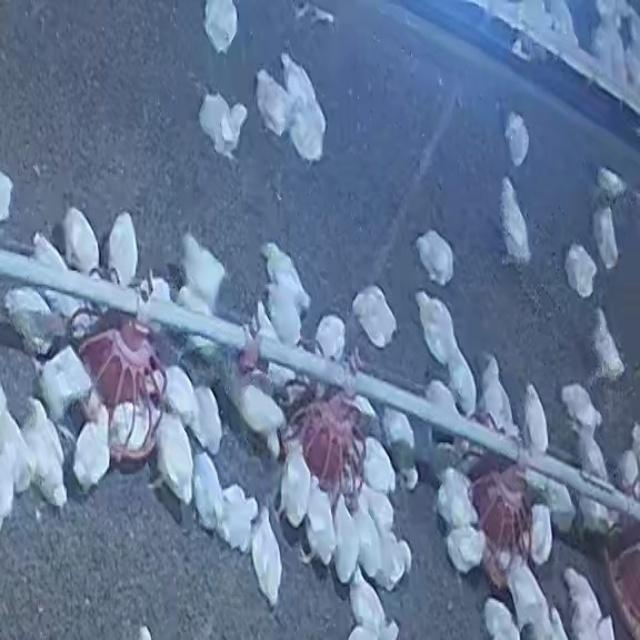chicken: (19, 398, 70, 509), (28, 230, 89, 319), (35, 344, 94, 426), (2, 284, 64, 358), (228, 376, 288, 448), (590, 2, 636, 94), (178, 232, 228, 315), (154, 409, 196, 503), (504, 560, 554, 636), (378, 406, 421, 494), (560, 568, 612, 639), (1, 396, 31, 518), (414, 292, 459, 370), (72, 414, 114, 497), (214, 483, 261, 555), (160, 362, 202, 442), (346, 573, 396, 639), (250, 507, 283, 607), (264, 276, 310, 347), (476, 356, 515, 437), (198, 93, 246, 157), (351, 285, 399, 349), (175, 284, 222, 348), (368, 520, 408, 591), (192, 451, 226, 534), (279, 441, 312, 524), (435, 467, 477, 532), (62, 206, 101, 276), (263, 240, 307, 302), (422, 379, 464, 443), (106, 211, 140, 287), (332, 494, 362, 580), (500, 180, 530, 265), (592, 307, 624, 384), (147, 366, 193, 419), (289, 102, 327, 166), (305, 480, 336, 558), (415, 230, 456, 287), (192, 383, 224, 456), (538, 477, 576, 538), (257, 70, 291, 138), (573, 427, 610, 489), (280, 50, 320, 107), (559, 382, 602, 434), (444, 524, 487, 575), (360, 436, 397, 495), (110, 404, 153, 452), (520, 379, 548, 452), (364, 479, 399, 536), (204, 0, 238, 56), (542, 0, 580, 49), (516, 0, 562, 40), (448, 354, 477, 413), (594, 208, 620, 272), (528, 502, 554, 566), (314, 315, 348, 363), (566, 245, 596, 297), (482, 599, 517, 640), (506, 113, 528, 168), (616, 449, 640, 499), (255, 300, 279, 349), (597, 168, 625, 203)
